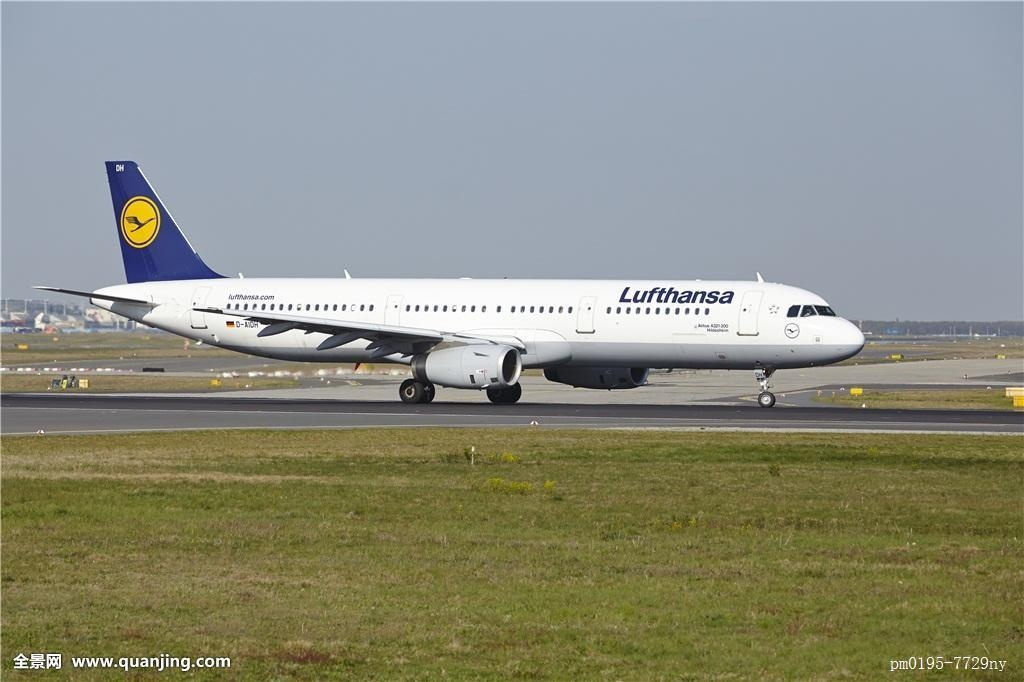airplane: (42, 149, 879, 416)
